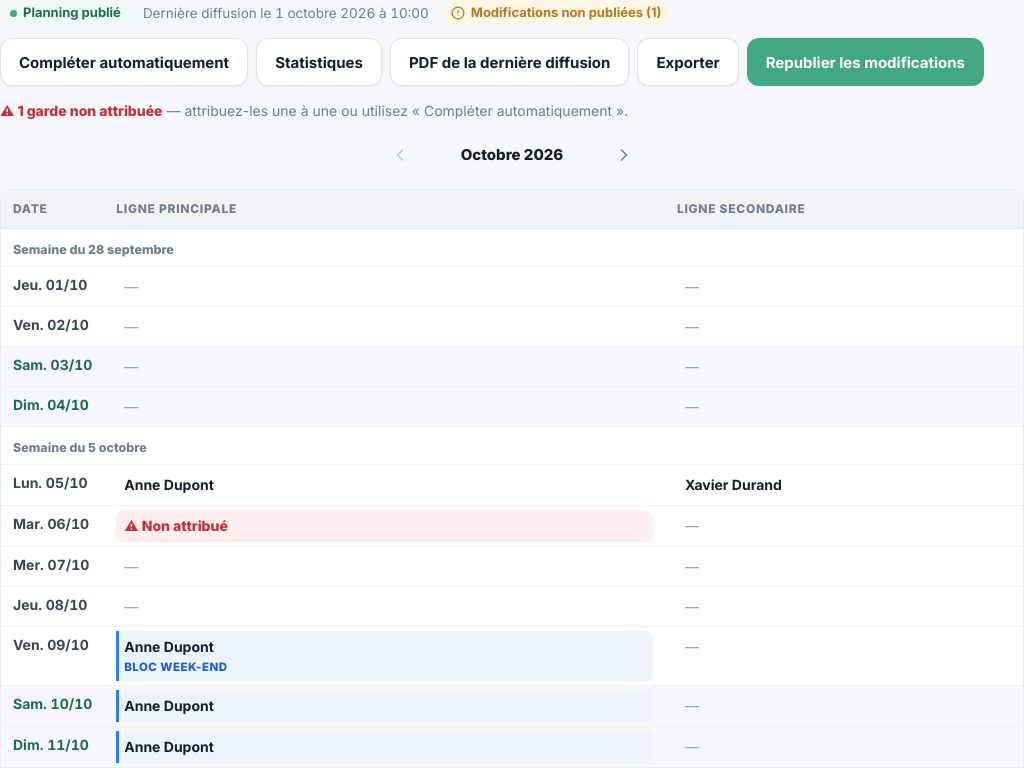
Scenario: PlanningCalendar › announces a removed reinforcement nobody needs any more as "Pas de renfort", never "Non attribué" (D166)
The width and height of the screenshot is (1024, 768).
Click the button "Republier les modifications": (865, 62) [747, 38, 984, 86]
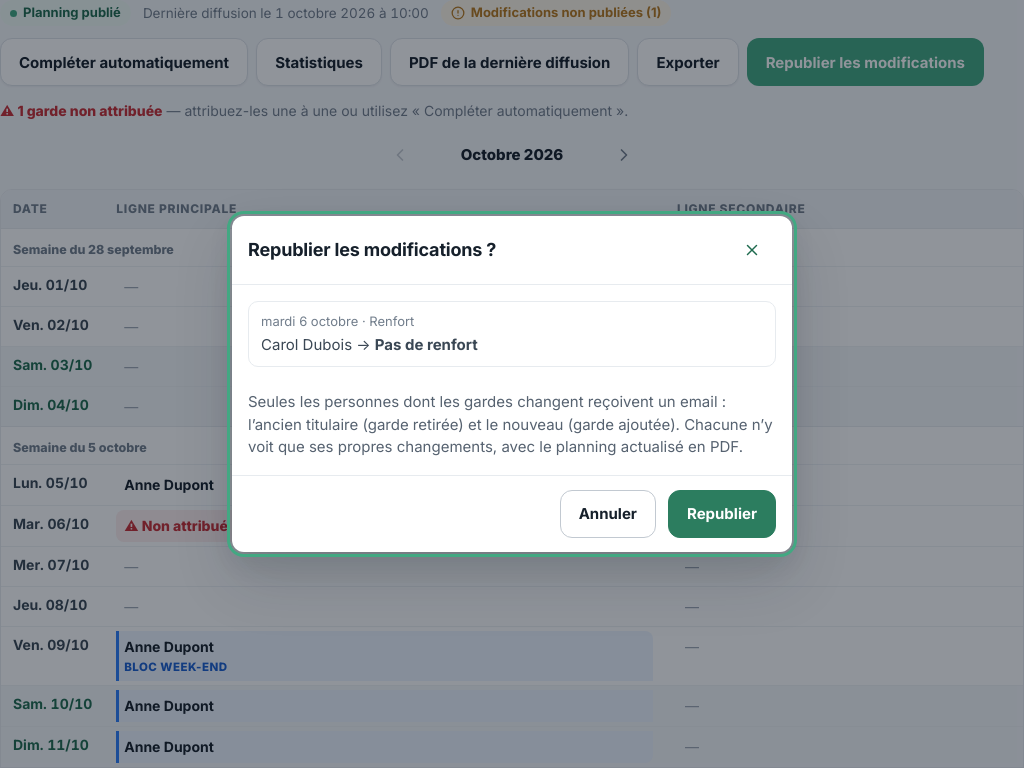
Expected: the text "Pas de renfort" is shown, [375, 335, 478, 354]
